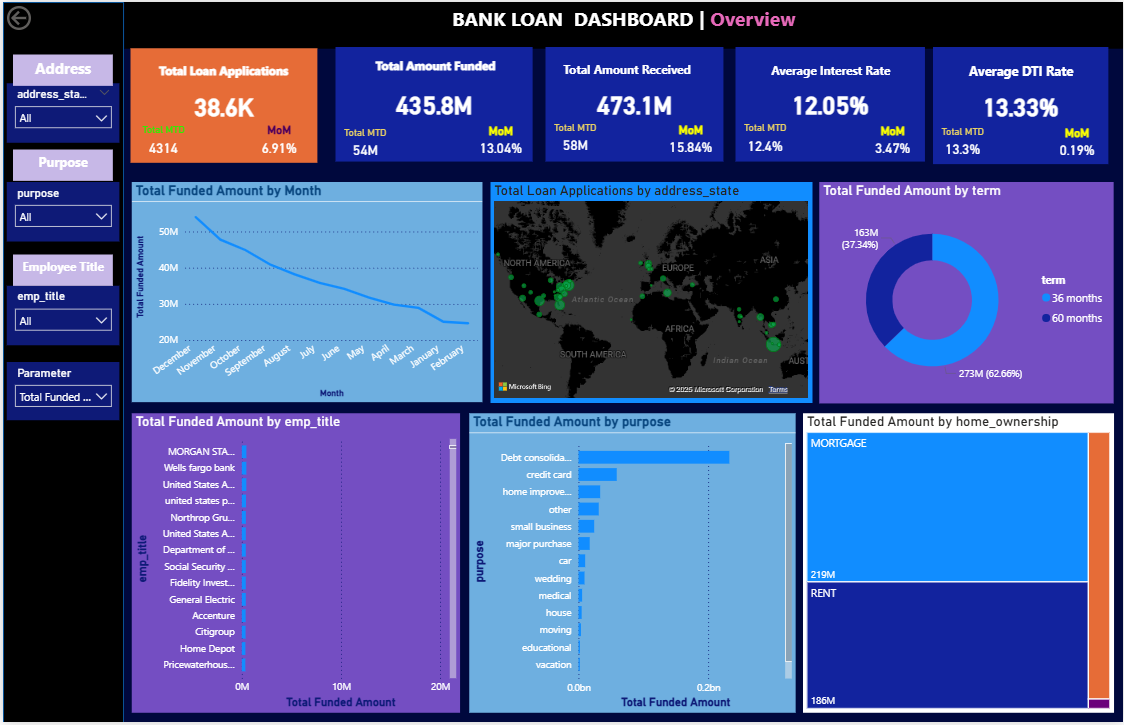

The page's visual inventory and layout, read from the dashboard file:
{"tool":"powerbi","page":{"name":"Overview","canvas":[1400,900],"ordinal":1},"visuals":[{"type":"textbox","box":[151.2,0,1249,58.7],"z":0},{"type":"shape","box":[0,0,151.2,1000],"z":1000},{"type":"card","fields":{"Values":["financial_loan_full.Total Loan Applications"]},"box":[159.7,58.1,233.9,143.5],"z":2000},{"type":"textbox","box":[169.4,71,214.5,35.5],"z":3000},{"type":"card","title":"Total MTD ","fields":{"Values":["financial_loan_full.MTD Loan Applictions"]},"box":[159.7,153.2,82.3,46.8],"z":4000},{"type":"card","title":"MoM","fields":{"Values":["financial_loan_full.MOM Loan Applications"]},"box":[296.8,151.6,96.8,48.4],"z":5000},{"type":"card","fields":{"Values":["financial_loan_full.Total Funded Amount"]},"box":[416.1,56.5,246.8,143.5],"z":6000},{"type":"textbox","box":[433.9,64.5,212.9,41.9],"z":7000},{"type":"card","title":"Total MTD ","fields":{"Values":["financial_loan_full.MTD Funded Amount"]},"box":[416.1,156.5,74.2,46.8],"z":8000},{"type":"card","title":"MoM","fields":{"Values":["financial_loan_full.MOM Funded Amount"]},"box":[582.3,153.2,79,45.2],"z":9000},{"type":"card","fields":{"Values":["financial_loan_full.Total Received Amount"]},"box":[677.4,56.5,222.6,143.5],"z":10000},{"type":"textbox","box":[695.2,69.4,185.5,40.3],"z":11000},{"type":"card","title":"Total MTD ","fields":{"Values":["financial_loan_full.MTD Received Amount"]},"box":[677.4,150,74.2,46.8],"z":12000},{"type":"card","title":"MoM","fields":{"Values":["financial_loan_full.MOM Received Amount"]},"box":[821,151.6,79,43.5],"z":13000},{"type":"card","fields":{"Values":["financial_loan_full.Average Intrest Rate"]},"box":[916.1,56.5,237.1,143.5],"z":14000},{"type":"textbox","box":[948.4,71,172.6,38.7],"z":15000},{"type":"card","title":"Total MTD ","fields":{"Values":["financial_loan_full.MTD Average Interest Rate"]},"box":[916.1,150,74.2,48.4],"z":16000},{"type":"card","title":"MoM","fields":{"Values":["financial_loan_full.MOM Average Interest Rate"]},"box":[1072.6,153.2,80.6,45.2],"z":17000},{"type":"card","fields":{"Values":["financial_loan_full.Average DTI"]},"box":[1162.9,56.5,219.4,146.8],"z":18000},{"type":"textbox","box":[1174.2,71,198.4,35.5],"z":19000},{"type":"card","title":"Total MTD ","fields":{"Values":["financial_loan_full.MTD Average DTI"]},"box":[1162.9,154.8,74.2,46.8],"z":20000},{"type":"card","title":"MoM","fields":{"Values":["financial_loan_full.MOM Average DTI Rate"]},"box":[1303.2,154.8,79,45.2],"z":21000},{"type":"slicer","fields":{"Values":["financial_loan_full.address_state"]},"box":[5.2,101.7,140.8,74.3],"z":22000},{"type":"textbox","box":[13,65.2,125.2,39.1],"z":23000},{"type":"slicer","fields":{"Values":["financial_loan_full.purpose"]},"box":[5.2,224.3,140.8,74.3],"z":24000},{"type":"actionButton","box":[0,0,100,40],"z":25000},{"type":"textbox","box":[13,185.1,125.2,39.1],"z":26000},{"type":"slicer","fields":{"Values":["financial_loan_full.emp_title"]},"box":[5.2,354.6,140.8,74.3],"z":27000},{"type":"textbox","box":[13,315.5,125.2,39.1],"z":28000},{"type":"lineChart","fields":{"Y":["financial_loan_full.Total Funded Amount"],"Category":["DateTable.Month"]},"box":[161.7,225.6,438.1,275.1],"z":29000},{"type":"slicer","fields":{"Values":["Parameter.Parameter"]},"box":[5.2,449.8,140.8,73],"z":30000},{"type":"map","fields":{"Category":["financial_loan_full.address_state"],"Size":["financial_loan_full.Total Loan Applications"]},"box":[608.9,225.6,401.6,275.1],"z":31000},{"type":"donutChart","fields":{"Y":["financial_loan_full.Total Funded Amount"],"Category":["financial_loan_full.term"]},"box":[1019.6,224.3,367.7,276.4],"z":32000},{"type":"clusteredBarChart","fields":{"Y":["financial_loan_full.Total Funded Amount"],"Category":["financial_loan_full.emp_title"]},"box":[161.7,513.7,410.7,374.2],"z":33000},{"type":"clusteredBarChart","fields":{"Y":["financial_loan_full.Total Funded Amount"],"Category":["financial_loan_full.purpose"]},"box":[582.8,513.7,408.1,374.2],"z":34000},{"type":"treemap","fields":{"Values":["financial_loan_full.Total Funded Amount"],"Group":["financial_loan_full.home_ownership"]},"box":[1000,513.7,388.5,374.2],"z":35000}]}

Visuals, with their boxes in screenshot pixels (x1, y1, x2, y2), scaled from the page's 1400x900 canvas onto the 1124x725 screenshot:
textbox: left=121, top=0, right=1123, bottom=47
shape: left=0, top=0, right=121, bottom=724
card - financial_loan_full.Total Loan Applications: left=128, top=47, right=316, bottom=162
textbox: left=136, top=57, right=308, bottom=86
"Total MTD " card: left=128, top=123, right=194, bottom=161
"MoM" card: left=238, top=122, right=316, bottom=161
card - financial_loan_full.Total Funded Amount: left=334, top=46, right=532, bottom=161
textbox: left=348, top=52, right=519, bottom=86
"Total MTD " card: left=334, top=126, right=394, bottom=164
"MoM" card: left=468, top=123, right=531, bottom=160
card - financial_loan_full.Total Received Amount: left=544, top=46, right=723, bottom=161
textbox: left=558, top=56, right=707, bottom=88
"Total MTD " card: left=544, top=121, right=603, bottom=159
"MoM" card: left=659, top=122, right=723, bottom=157
card - financial_loan_full.Average Intrest Rate: left=735, top=46, right=926, bottom=161
textbox: left=761, top=57, right=900, bottom=88
"Total MTD " card: left=735, top=121, right=795, bottom=160
"MoM" card: left=861, top=123, right=926, bottom=160
card - financial_loan_full.Average DTI: left=934, top=46, right=1110, bottom=164
textbox: left=943, top=57, right=1102, bottom=86
"Total MTD " card: left=934, top=125, right=993, bottom=162
"MoM" card: left=1046, top=125, right=1110, bottom=161
slicer - financial_loan_full.address_state: left=4, top=82, right=117, bottom=142
textbox: left=10, top=53, right=111, bottom=84
slicer - financial_loan_full.purpose: left=4, top=181, right=117, bottom=241
actionButton: left=0, top=0, right=80, bottom=32
textbox: left=10, top=149, right=111, bottom=181
slicer - financial_loan_full.emp_title: left=4, top=286, right=117, bottom=346
textbox: left=10, top=254, right=111, bottom=286
lineChart - financial_loan_full.Total Funded Amount x DateTable.Month: left=130, top=182, right=482, bottom=403
slicer - Parameter.Parameter: left=4, top=362, right=117, bottom=421
map - financial_loan_full.address_state x financial_loan_full.Total Loan Applications: left=489, top=182, right=811, bottom=403
donutChart - financial_loan_full.Total Funded Amount x financial_loan_full.term: left=819, top=181, right=1114, bottom=403
clusteredBarChart - financial_loan_full.Total Funded Amount x financial_loan_full.emp_title: left=130, top=414, right=460, bottom=715
clusteredBarChart - financial_loan_full.Total Funded Amount x financial_loan_full.purpose: left=468, top=414, right=796, bottom=715
treemap - financial_loan_full.Total Funded Amount x financial_loan_full.home_ownership: left=803, top=414, right=1115, bottom=715
